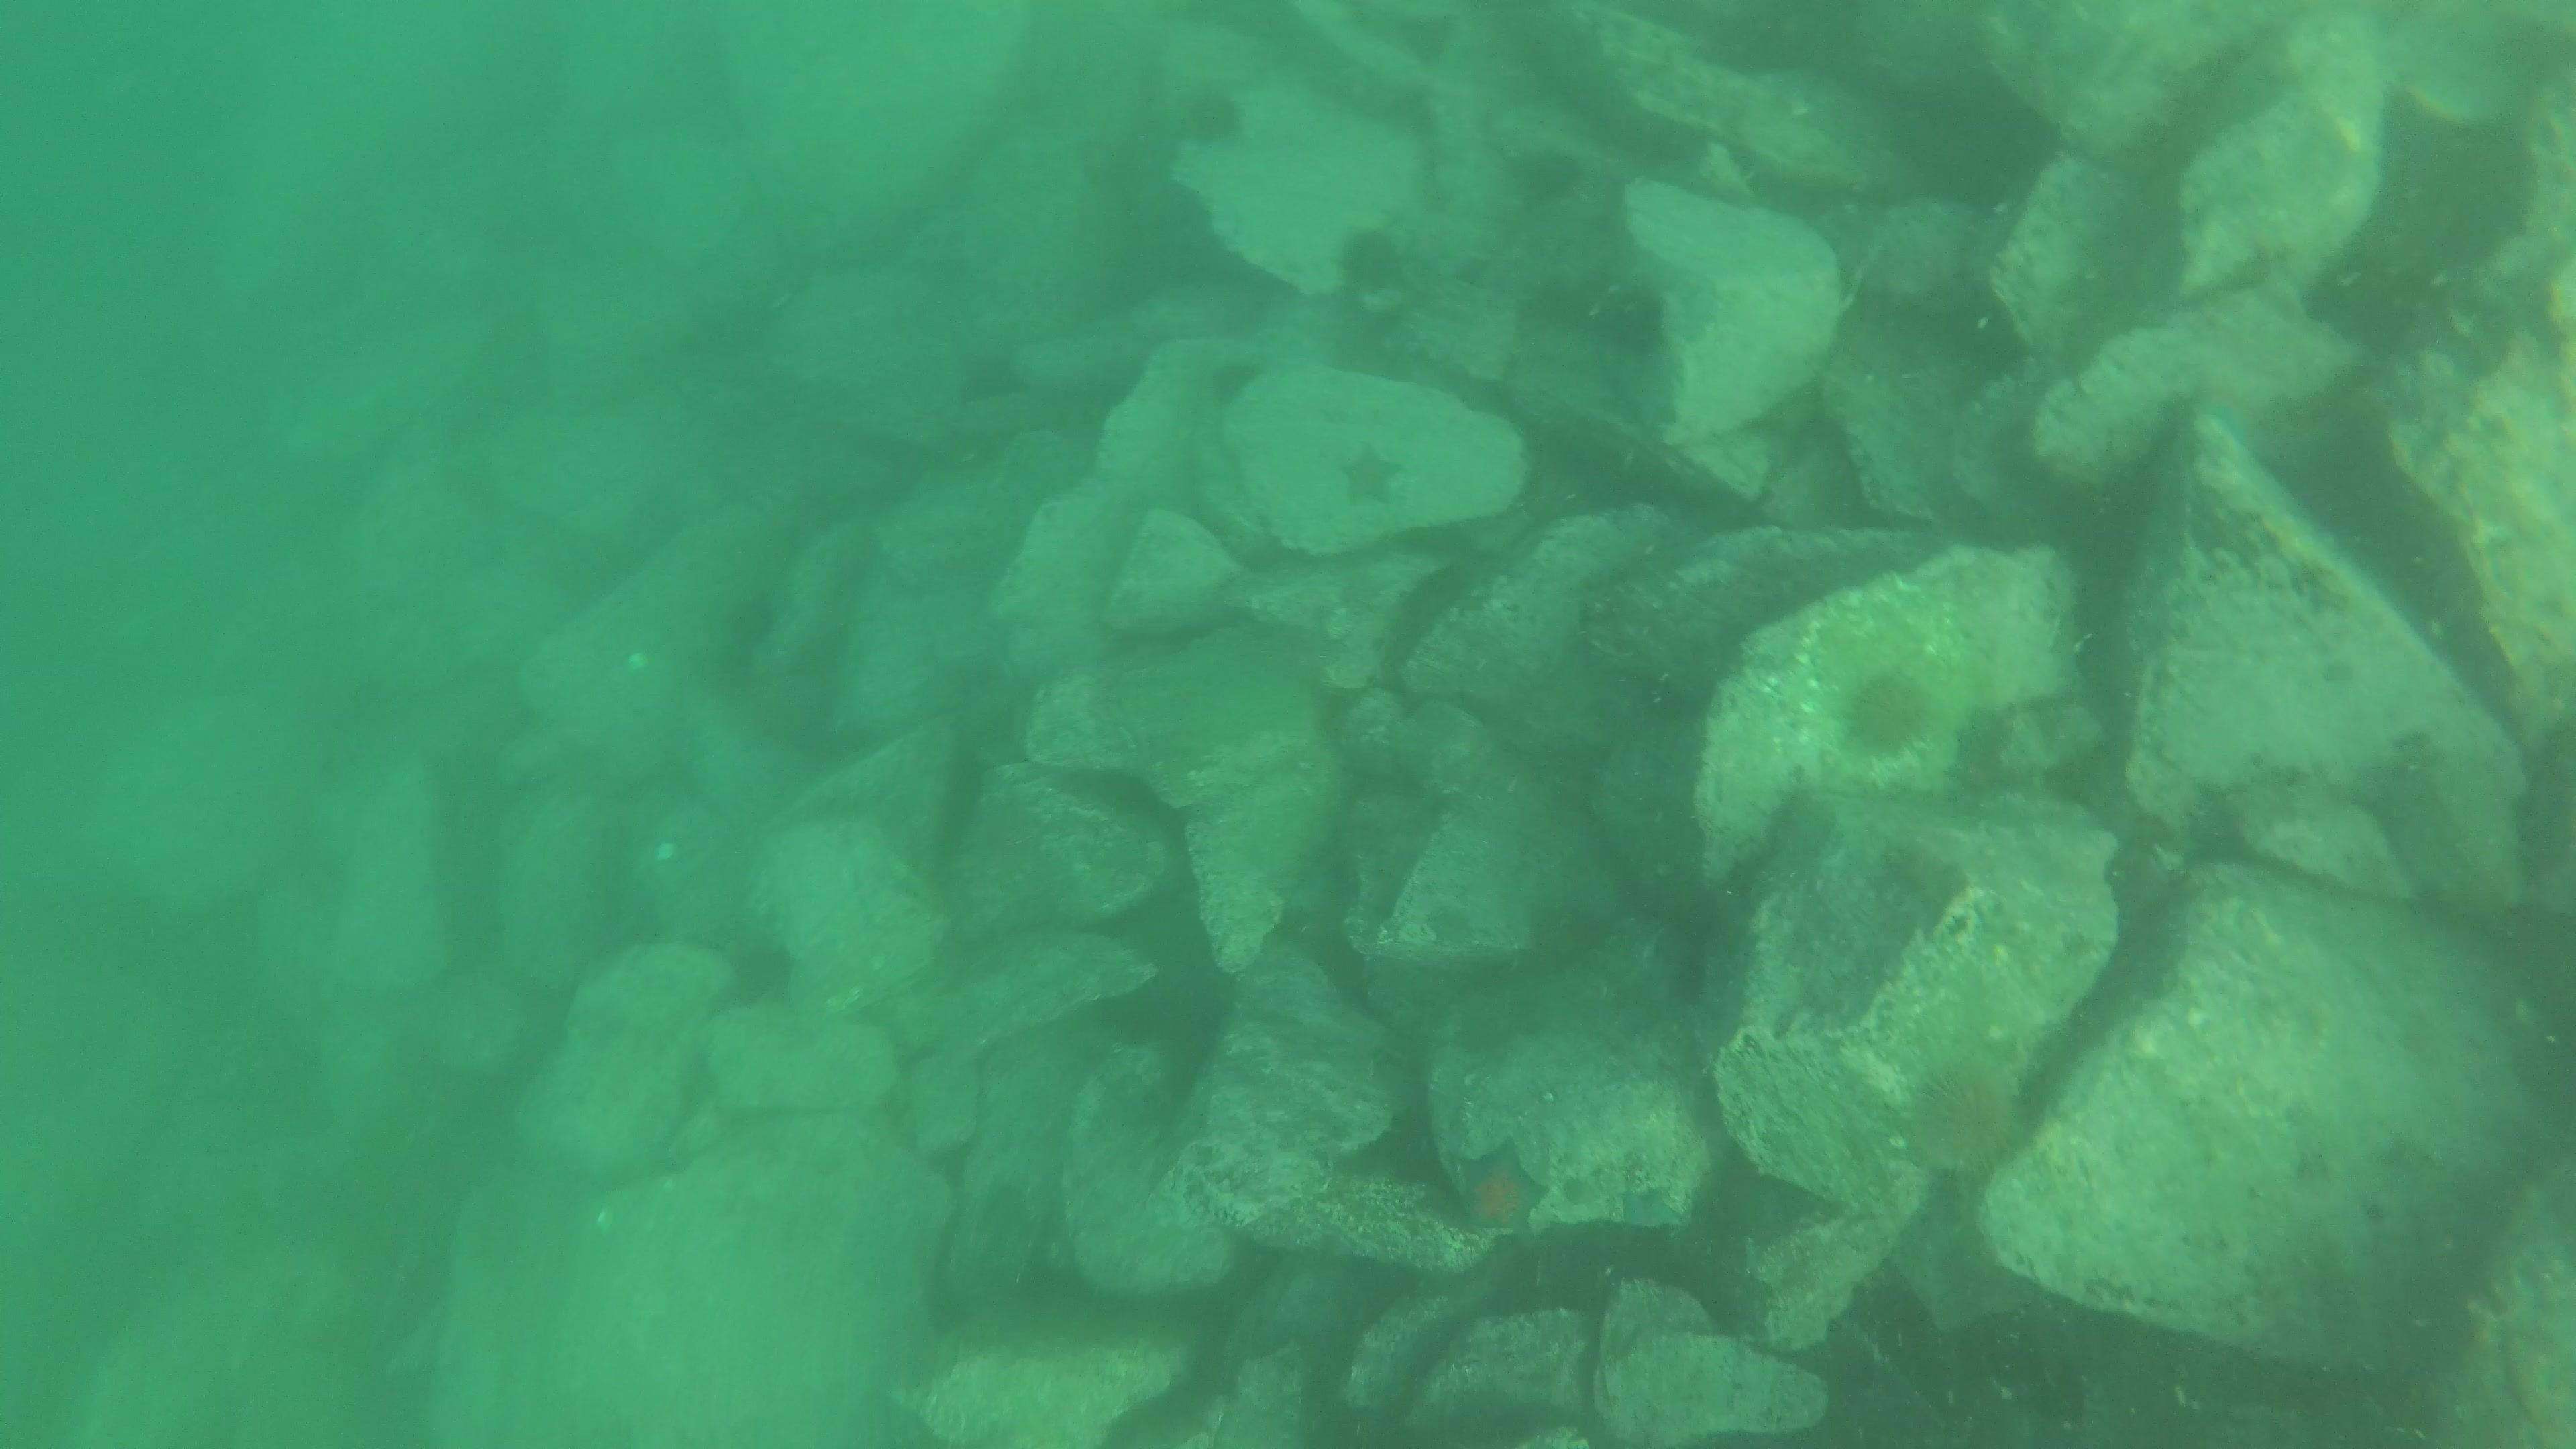echinus: (1905, 1056, 2019, 1177), (1849, 683, 1930, 761), (1596, 287, 1679, 361), (1341, 226, 1419, 299), (1182, 87, 1242, 147), (1214, 357, 1274, 410)
starfish: (1456, 1138, 1552, 1249), (1345, 441, 1414, 517)
